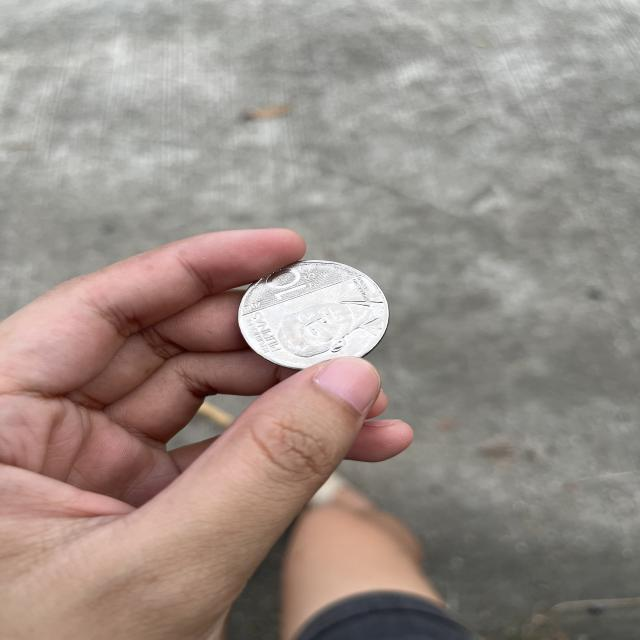10_New_Front: (254, 254, 338, 314)
